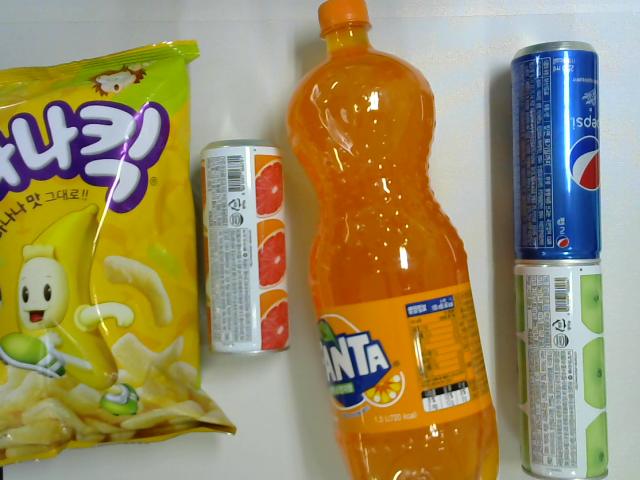Banana_Kick: (1, 37, 240, 465)
Demisoda_Apple_Can_250ml: (514, 257, 605, 480)
Demisoda_Grapefruit_Can_250ml: (197, 136, 288, 356)
Hwanta_Orange_1.5L: (281, 2, 499, 480)
Pepsi_Cola_Can_250ml: (509, 39, 600, 261)
